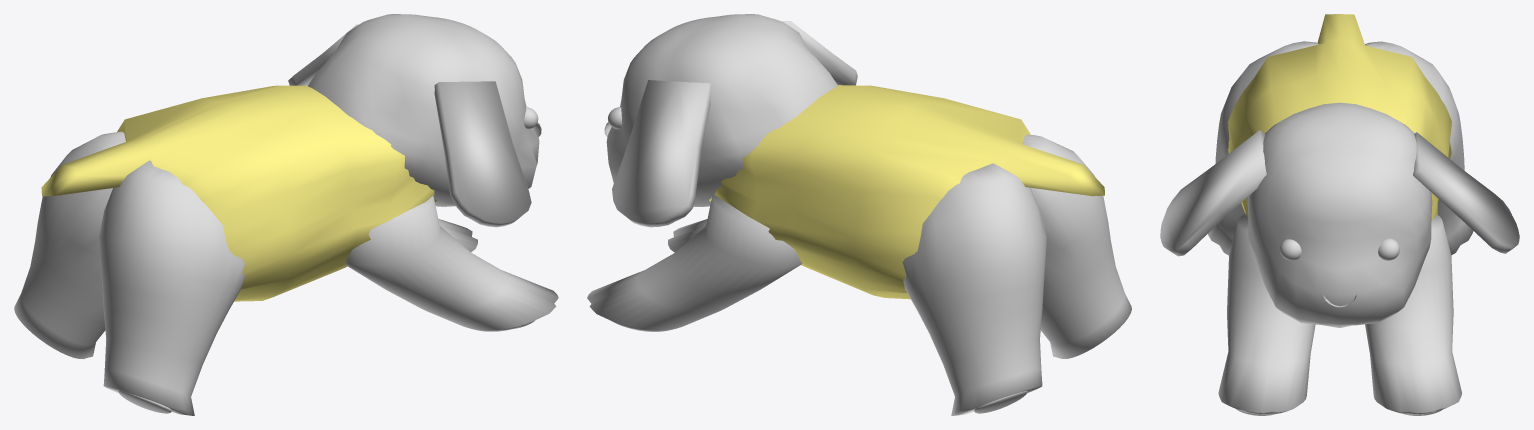
Rendered from momijimodoki.gltf.
3 views of the same model, side by side, from view 1: azimuth 30°, elevation 25°; view 2: azimuth 150°, elevation 25°; view 3: azimuth 270°, elevation 25° (orthographic). The views are drawn at different scales.
Parts seen in each view (by area): view 1: 胴体, 右脚, 頭, 右前脚, 右脚.001, 右耳, 左耳, 左前脚; view 2: 胴体, 右脚.001, 頭, 左前脚, 右脚, 左耳, 右耳, 右前脚; view 3: 頭, 胴体, 左前脚, 右前脚, 右耳, 左耳, 右脚.001, 右脚, 左眼, 右眼.
Boxes of the visible parts, box(x1,y1,x2,y2) form: 胴体: box(41, 85, 436, 301); 右脚: box(99, 160, 245, 415); 頭: box(308, 14, 539, 206); 右前脚: box(345, 196, 558, 331); 右脚.001: box(14, 131, 125, 359); 右耳: box(434, 81, 531, 227); 左耳: box(288, 24, 358, 85); 左前脚: box(438, 219, 477, 252); 胴体: box(709, 85, 1104, 299); 右脚.001: box(902, 163, 1046, 415); 頭: box(606, 14, 837, 207); 左前脚: box(587, 194, 802, 331); 右脚: box(1022, 134, 1131, 358); 左耳: box(612, 80, 710, 227); 右耳: box(782, 21, 857, 85); 右前脚: box(668, 219, 707, 252); 頭: box(1247, 102, 1432, 327); 胴体: box(1228, 14, 1451, 220); 左前脚: box(1365, 214, 1461, 414); 右前脚: box(1218, 213, 1315, 414); 右耳: box(1160, 130, 1266, 256); 左耳: box(1413, 132, 1519, 253); 右脚.001: box(1365, 41, 1473, 255); 右脚: box(1208, 41, 1318, 255); 左眼: box(1378, 238, 1399, 260); 右眼: box(1280, 239, 1301, 260).
Bounding box in the file's own units: 4.39 × 2.42 × 2.87.
